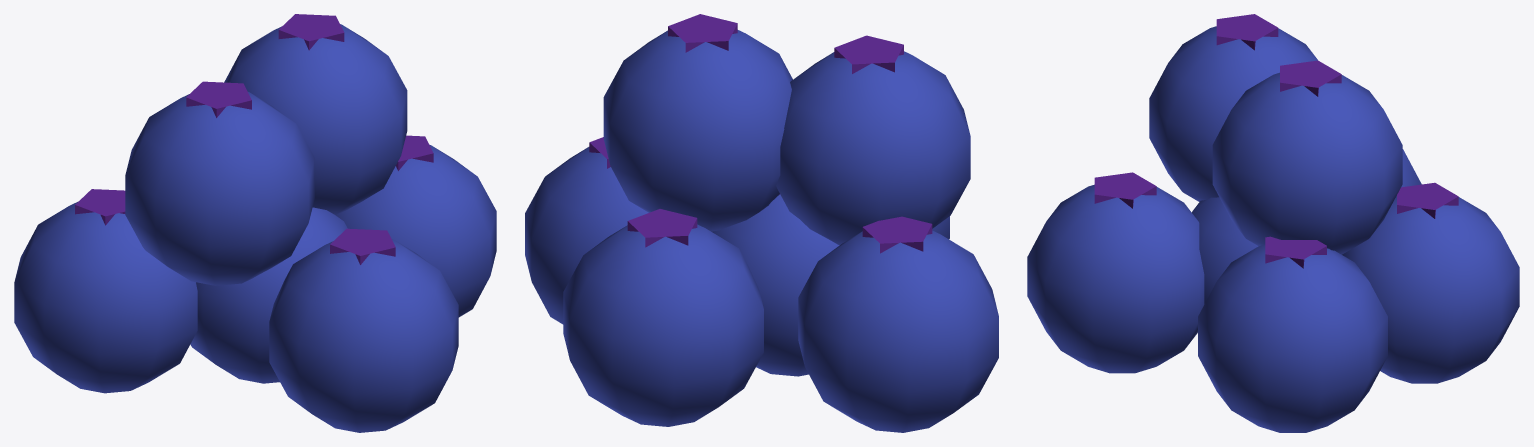
Rendered from Blueberries.fbx.
The picture shows the model from 3 angles, left to right: view 1: azimuth 30°, elevation 25°; view 2: azimuth 150°, elevation 25°; view 3: azimuth 270°, elevation 25°; orthographic projection. The views are drawn at different scales.
Parts seen in each view (by area): view 1: Blueberries; view 2: Blueberries; view 3: Blueberries.
Part boxes in pixels (left/top/right/bottom): Blueberries: left=14, top=14, right=496, bottom=432; Blueberries: left=525, top=14, right=998, bottom=432; Blueberries: left=1027, top=14, right=1519, bottom=432.
Bounding box in the file's own units: 1.01 × 0.705 × 1.01.
Materials: 1 (1 with a texture image).
